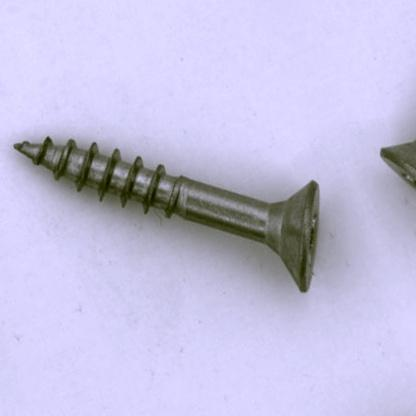metal: (13, 135, 324, 295)
